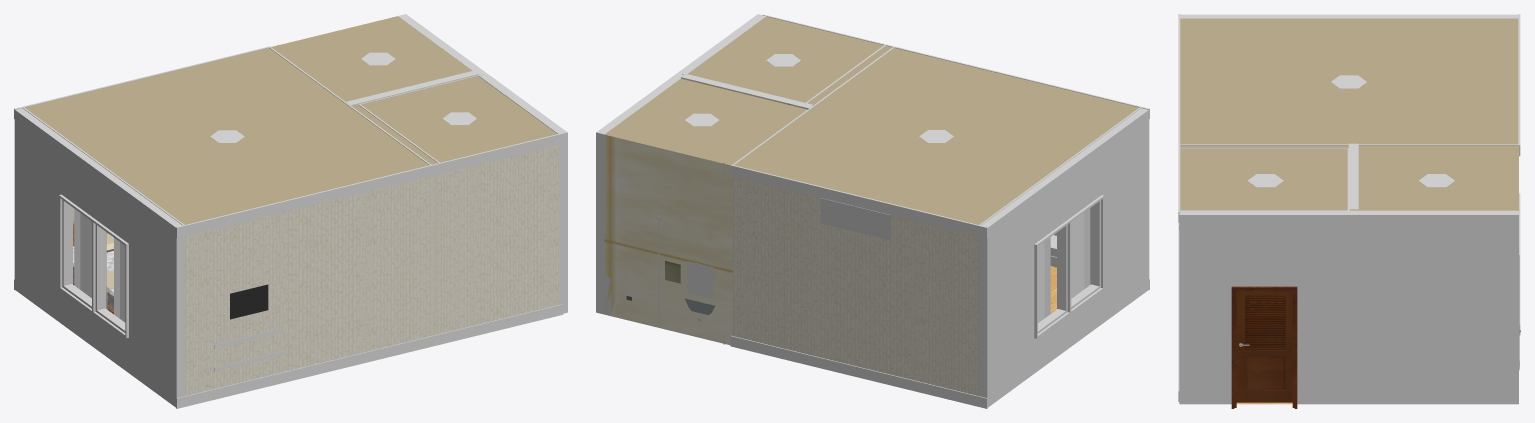
The model's file is Kamar.fbx.
3 renders of one model, left to right at view 1: azimuth 30°, elevation 25°; view 2: azimuth 150°, elevation 25°; view 3: azimuth 270°, elevation 25°, orthographic. The views are drawn at different scales.
Visible parts, largest first — view 1: tembok.004, atep, tembok.001, sekat, jendela, Curtains_Double.001, lampu, tipi, tatakan; view 2: atep, tembok.004, tembok.001, tembok.006, sekat, jendela, Curtains_Double.001, ac, lampu, kaca.001; view 3: atep, tembok.001, Cube.002, sekat, pintu perpus.001, lampu.
Boxes of the visible parts, box(x1,y1,x2,y2) form: tembok.004: box(73, 74, 559, 395); atep: box(25, 16, 556, 224); tembok.001: box(14, 14, 567, 407); sekat: box(14, 44, 563, 408); jendela: box(59, 194, 128, 338); Curtains_Double.001: box(74, 209, 125, 322); lampu: box(210, 52, 476, 142); tipi: box(230, 284, 268, 319); tatakan: box(214, 328, 284, 371); atep: box(605, 16, 1138, 224); tembok.004: box(732, 105, 1056, 395); tembok.001: box(596, 14, 1149, 407); tembok.006: box(604, 77, 808, 344); sekat: box(682, 14, 1149, 408); jendela: box(1034, 195, 1104, 338); Curtains_Double.001: box(1038, 208, 1090, 322); ac: box(820, 198, 890, 240); lampu: box(685, 54, 953, 142); kaca.001: box(687, 261, 713, 298); atep: box(1180, 19, 1518, 210); tembok.001: box(1179, 14, 1518, 404); Cube.002: box(1236, 291, 1292, 402); sekat: box(1178, 14, 1520, 401); pintu perpus.001: box(1231, 286, 1297, 408); lampu: box(1247, 75, 1454, 187).
Size of the model in its own units: 12778 by 5704 by 9113.
45 materials, 21 textured.
